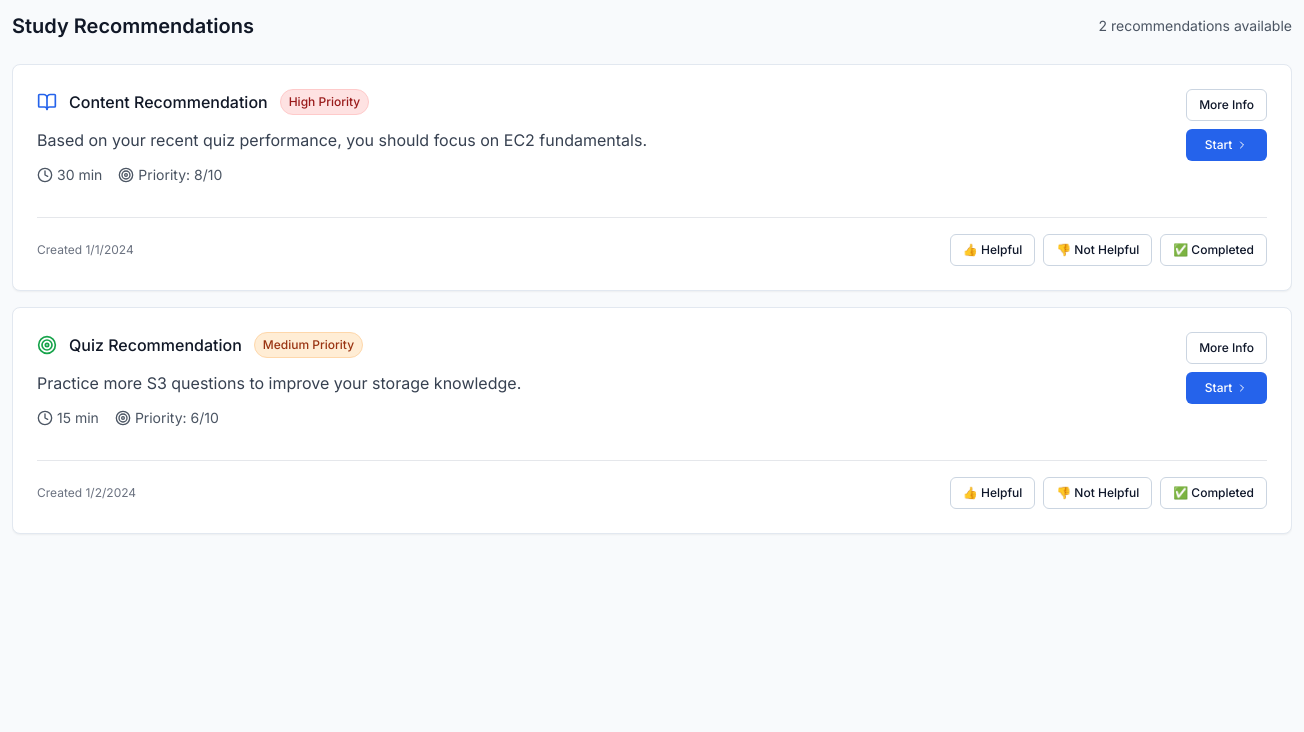
Test case: RecommendationDisplay › expands and collapses recommendation details
Step 1. Click the button "More Info" in the row of "High Priority" → (1227, 105), box [1186, 89, 1267, 121]
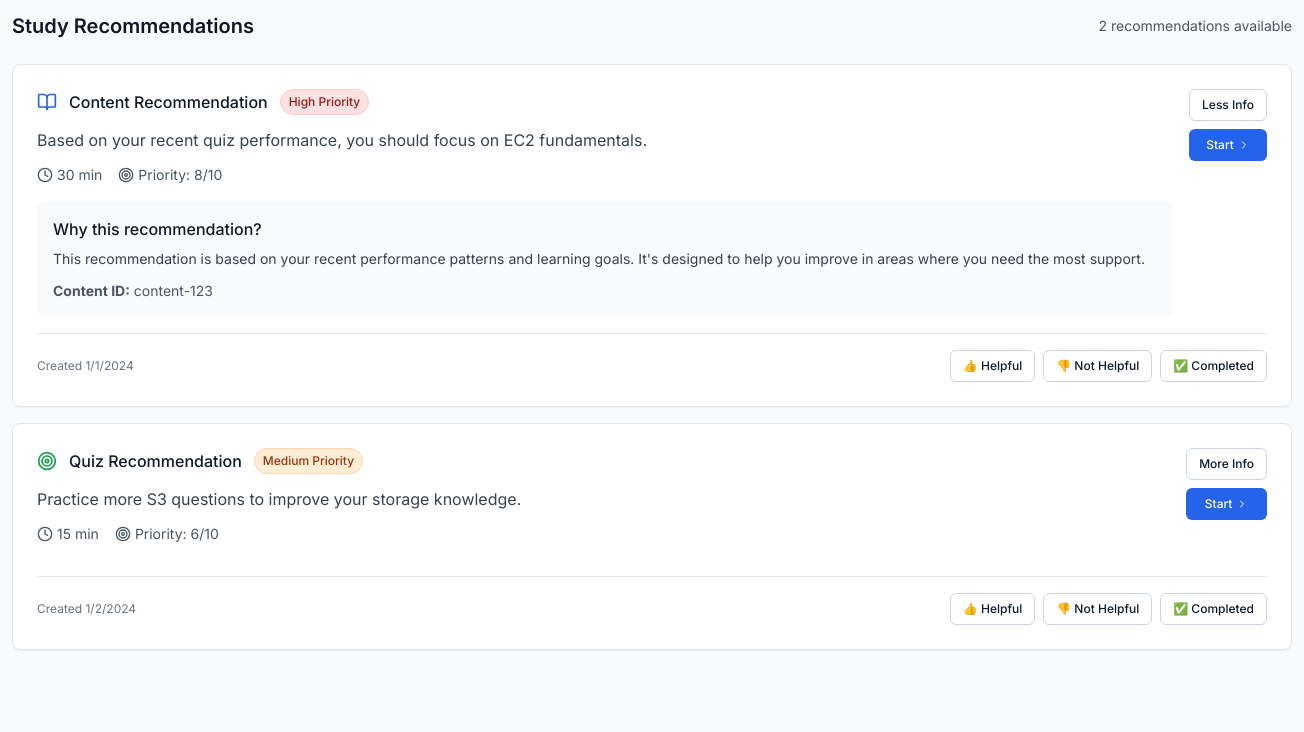
Check: the heading "Why this recommendation?" is shown, box [53, 219, 262, 239]
Check: the text "content-123" is shown, box [134, 282, 213, 299]
Step 2. Click the button "Less Info" → (1228, 105), box [1189, 89, 1267, 121]
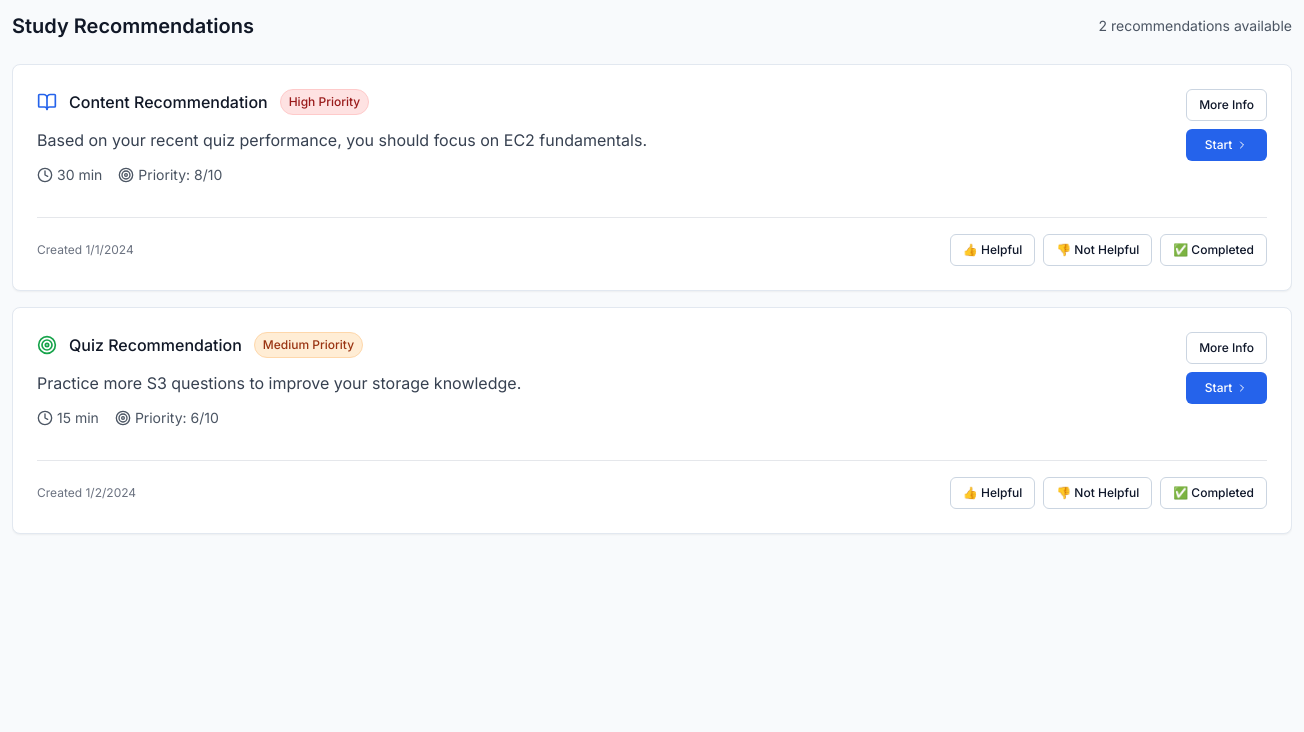
Check: the heading "Why this recommendation?" is gone
